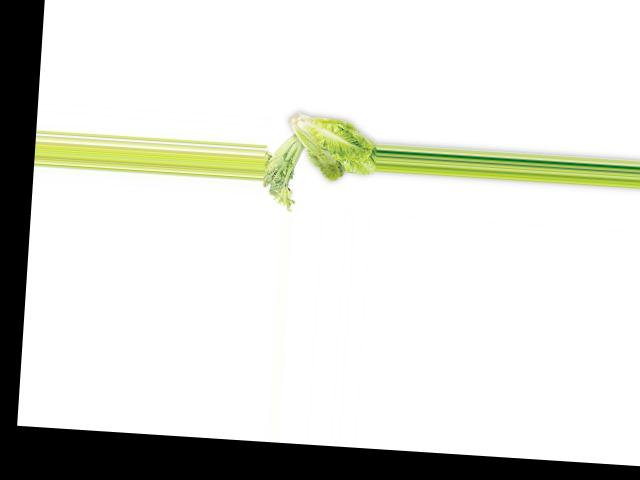lettuce: (280, 114, 379, 191)
